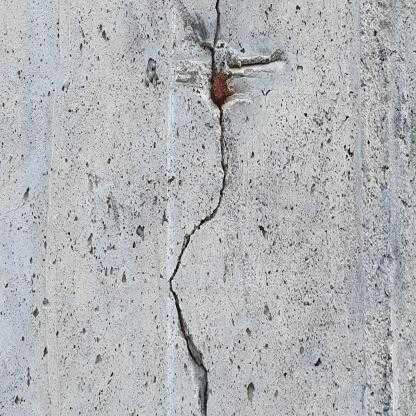crack: (168, 0, 229, 415)
